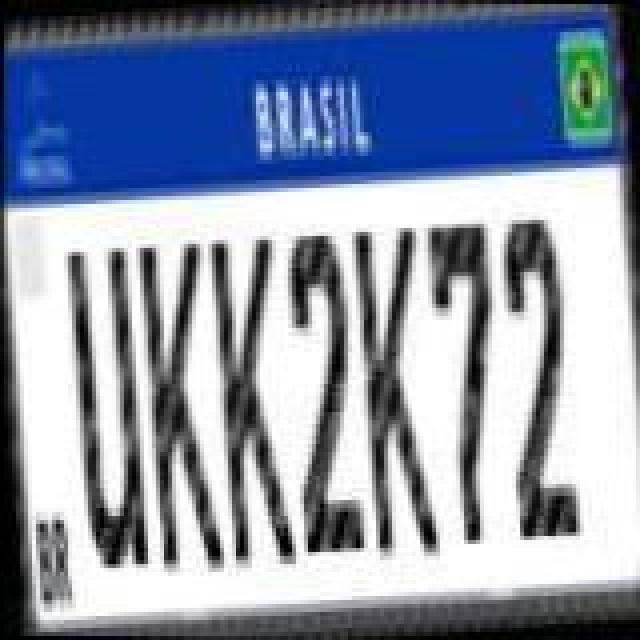2: (276, 224, 372, 560), (488, 214, 584, 546)
7: (416, 214, 512, 550)
K: (136, 238, 232, 574), (204, 234, 300, 570), (348, 228, 444, 560)
U: (58, 246, 150, 578)
